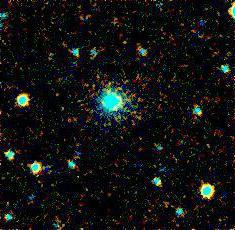star: (0, 189, 23, 219)
